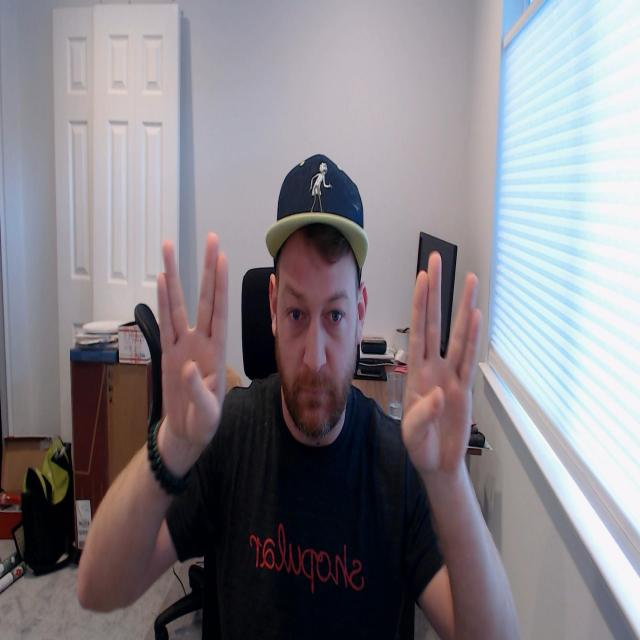face: (278, 249, 360, 438)
